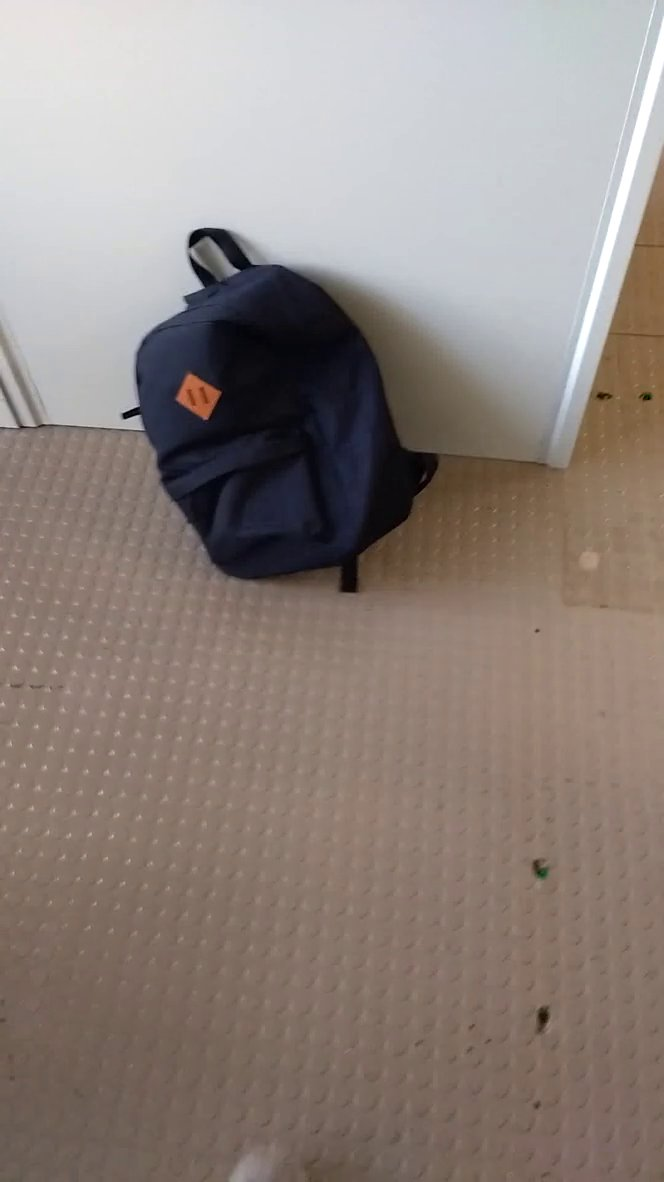bag: (116, 220, 455, 608)
